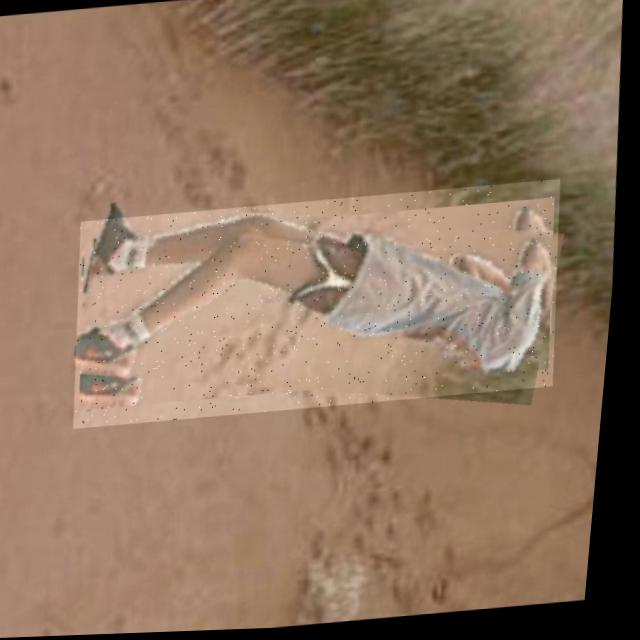Person in Rubble: (70, 183, 574, 430)
